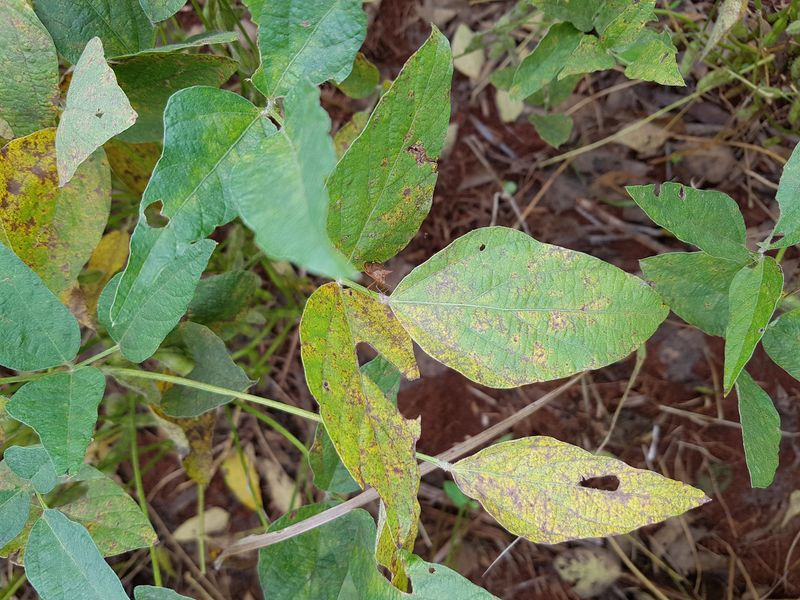Euschistus_heros_adulto: (352, 252, 407, 304)
